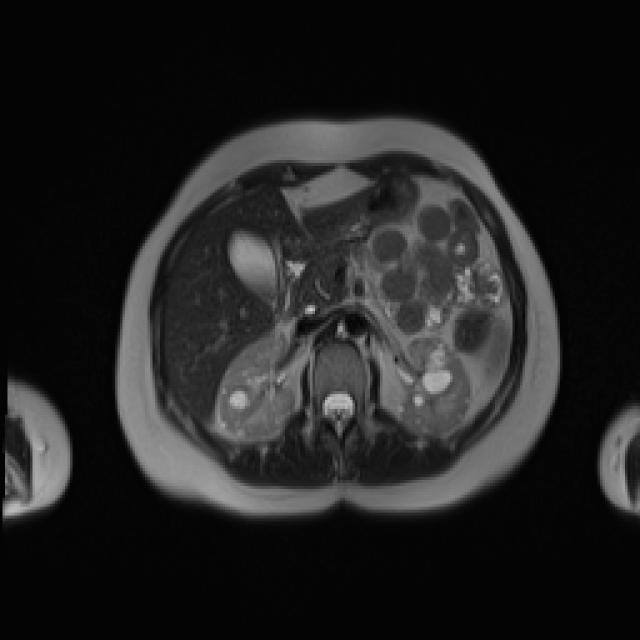sag: (218, 329, 295, 445)
sol: (395, 334, 474, 438)
